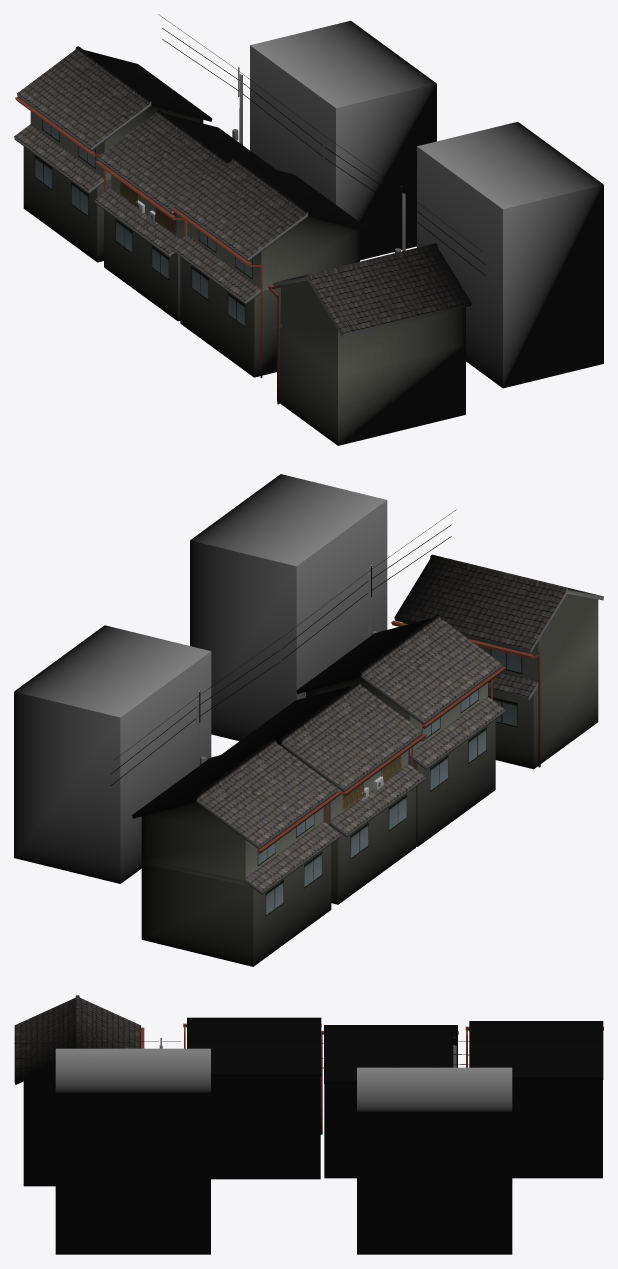
The model's file is KH_LEFT_AMB_HAUSE00.glb.
The picture shows the model from 3 angles, top to bottom: view 1: azimuth 30°, elevation 25°; view 2: azimuth 150°, elevation 25°; view 3: azimuth 270°, elevation 25°; orthographic projection. The views are drawn at different scales.
Parts seen in each view (by area): view 1: obj56, obj48, obj55, obj47, obj49, obj46; view 2: obj55, obj56, obj49, obj48, obj47, obj46; view 3: obj56, obj55, obj47, obj49, obj48, obj46.
Part boxes in pixels (left/top/right/bottom): obj56: left=321, top=121, right=603, bottom=388; obj48: left=268, top=243, right=471, bottom=445; obj55: left=158, top=14, right=436, bottom=260; obj47: left=170, top=157, right=368, bottom=377; obj49: left=14, top=46, right=212, bottom=262; obj46: left=94, top=110, right=275, bottom=321; obj55: left=14, top=625, right=284, bottom=883; obj56: left=190, top=474, right=456, bottom=741; obj49: left=132, top=739, right=341, bottom=966; obj48: left=391, top=554, right=603, bottom=769; obj47: left=296, top=614, right=506, bottom=846; obj46: left=221, top=682, right=426, bottom=904; obj56: left=14, top=1037, right=306, bottom=1254; obj55: left=308, top=1037, right=600, bottom=1254; obj47: left=183, top=1017, right=321, bottom=1179; obj49: left=465, top=1021, right=603, bottom=1178; obj48: left=14, top=995, right=144, bottom=1186; obj46: left=320, top=1025, right=458, bottom=1178.
Size of the model in its own units: 51.38 by 30.7 by 101.
20 materials, 20 textured.
